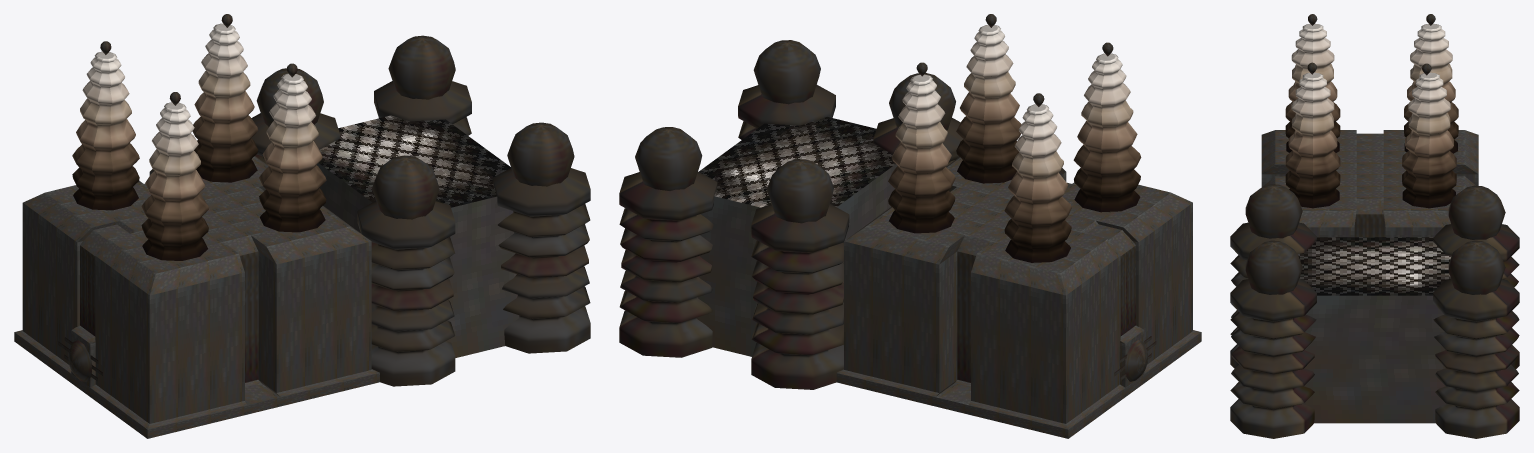
Rendered from generator.glb.
3 renders of one model, left to right at view 1: azimuth 30°, elevation 25°; view 2: azimuth 150°, elevation 25°; view 3: azimuth 270°, elevation 25°, orthographic. The views are drawn at different scales.
Parts seen in each view (by area): view 1: Box001, Box002, Hose005, Hose006, Hose001, Hose003, Hose002, Hose004, Sphere007, Sphere006, Sphere008, Hose007 (+3 smaller); view 2: Box001, Box002, Hose008, Hose007, Hose004, Hose001, Hose002, Hose003, Sphere009, Sphere008, Sphere007, Hose006 (+3 smaller); view 3: Box002, Box001, Hose007, Hose006, Hose004, Hose003, Hose002, Hose001, Sphere006, Sphere007, Sphere008, Sphere009 (+2 smaller).
Part boxes in pixels (x1,y1,x2,y2): Box001: (14, 156, 379, 438); Box002: (317, 115, 519, 357); Hose005: (357, 201, 455, 386); Hose006: (492, 168, 590, 353); Hose001: (72, 51, 139, 210); Hose003: (259, 73, 326, 232); Hose002: (141, 102, 208, 260); Hose004: (192, 23, 258, 182); Sphere007: (507, 122, 574, 186); Sphere006: (372, 155, 439, 219); Sphere008: (388, 35, 455, 99); Hose007: (374, 81, 471, 135); Box001: (836, 157, 1201, 438); Box002: (696, 117, 897, 356); Hose008: (751, 204, 849, 389); Hose007: (619, 171, 717, 357); Hose004: (888, 74, 955, 233); Hose001: (1004, 104, 1071, 262); Hose002: (1073, 53, 1141, 212); Hose003: (956, 25, 1021, 183); Sphere009: (767, 159, 833, 223); Sphere008: (635, 127, 702, 190); Sphere007: (753, 40, 820, 104); Hose006: (738, 85, 835, 139); Box002: (1298, 237, 1451, 423); Box001: (1261, 130, 1478, 237); Hose007: (1433, 279, 1519, 438); Hose006: (1230, 279, 1316, 438); Hose004: (1402, 72, 1456, 208); Hose003: (1285, 72, 1340, 208); Hose002: (1285, 23, 1340, 152); Hose001: (1404, 23, 1458, 153); Sphere006: (1245, 184, 1302, 238); Sphere007: (1245, 240, 1302, 294); Sphere008: (1448, 240, 1505, 294); Sphere009: (1448, 185, 1505, 239).
Bounding box in the file's own units: 1.95 × 1.25 × 1.25.
Materials: 4 (4 with a texture image).
